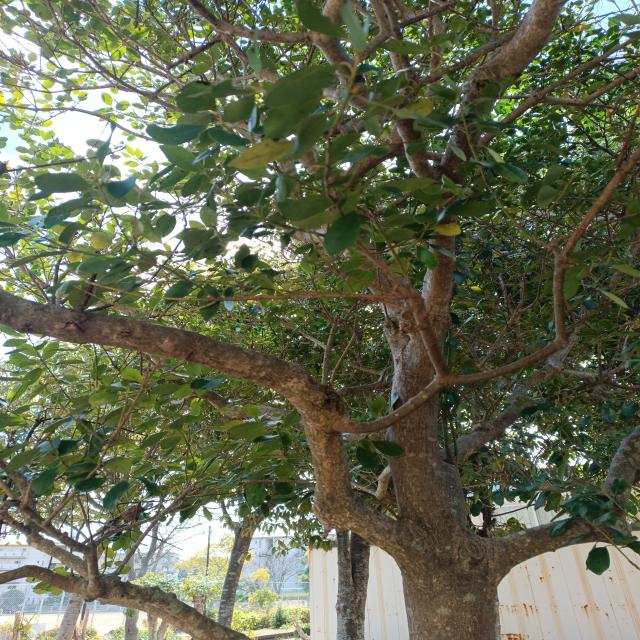Branch: (0, 286, 401, 564), (421, 0, 567, 313), (496, 423, 637, 588)
Twig: (343, 151, 637, 433), (97, 285, 410, 300), (408, 286, 448, 377), (330, 319, 380, 386), (244, 319, 325, 347), (322, 315, 339, 385)
